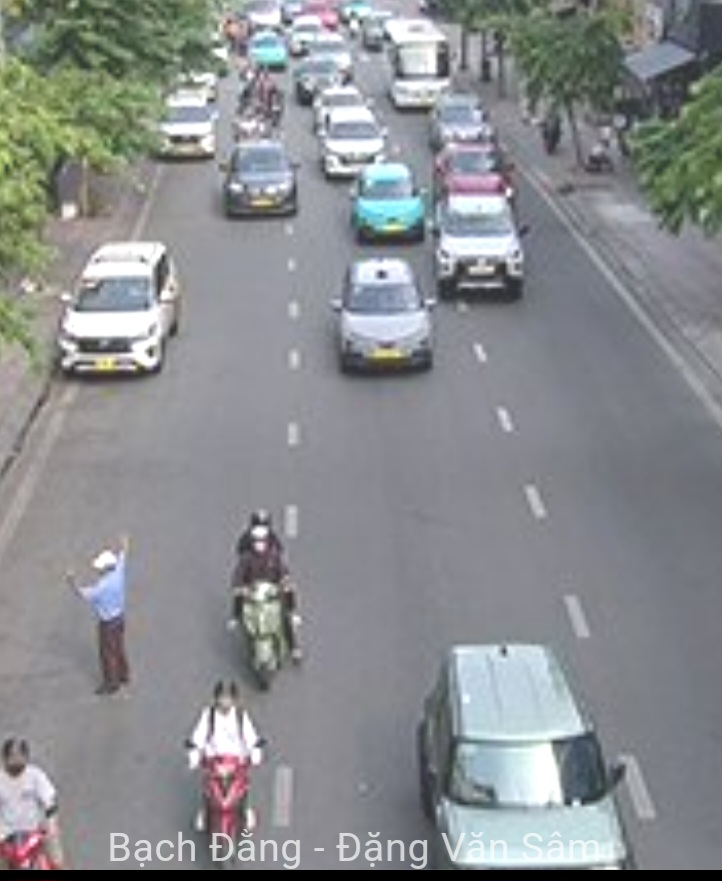car: (411, 650, 642, 881), (54, 239, 181, 378), (334, 262, 435, 369), (436, 198, 524, 300), (224, 142, 297, 220), (353, 169, 425, 244), (436, 146, 519, 197), (158, 91, 218, 158), (321, 110, 384, 172), (432, 97, 499, 143)
